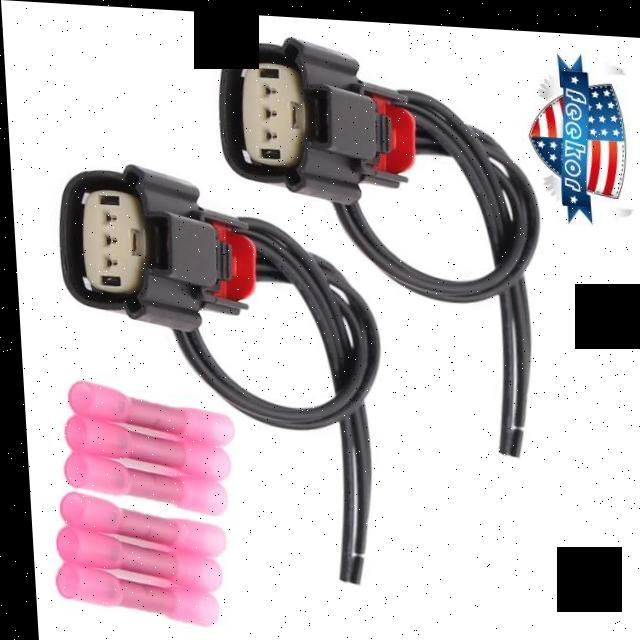connector: (40, 152, 279, 342), (204, 24, 428, 209)
